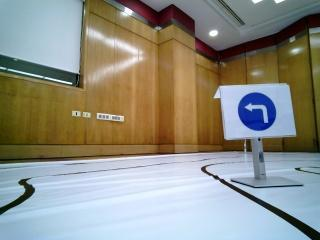left: (223, 86, 294, 140)
